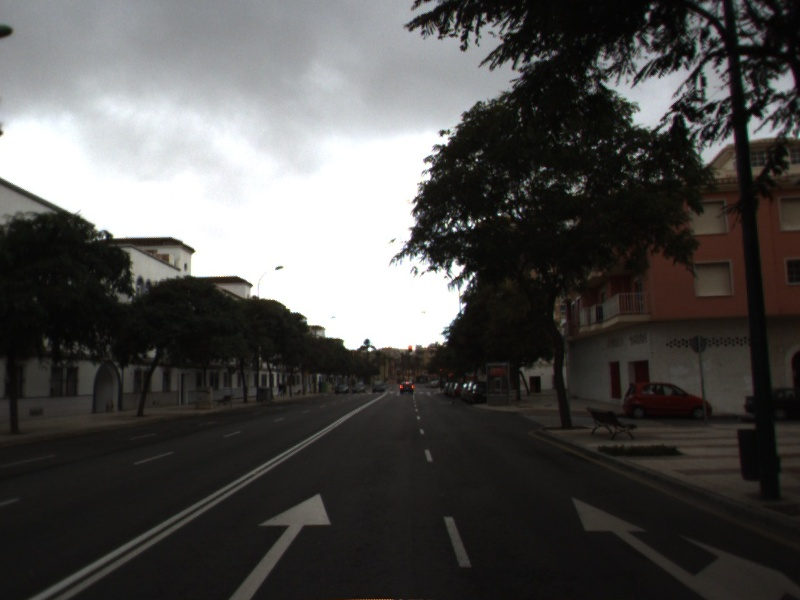STRAIGHT: (228, 491, 333, 600)
STRAIGHT_RIGHT: (569, 495, 800, 600)
